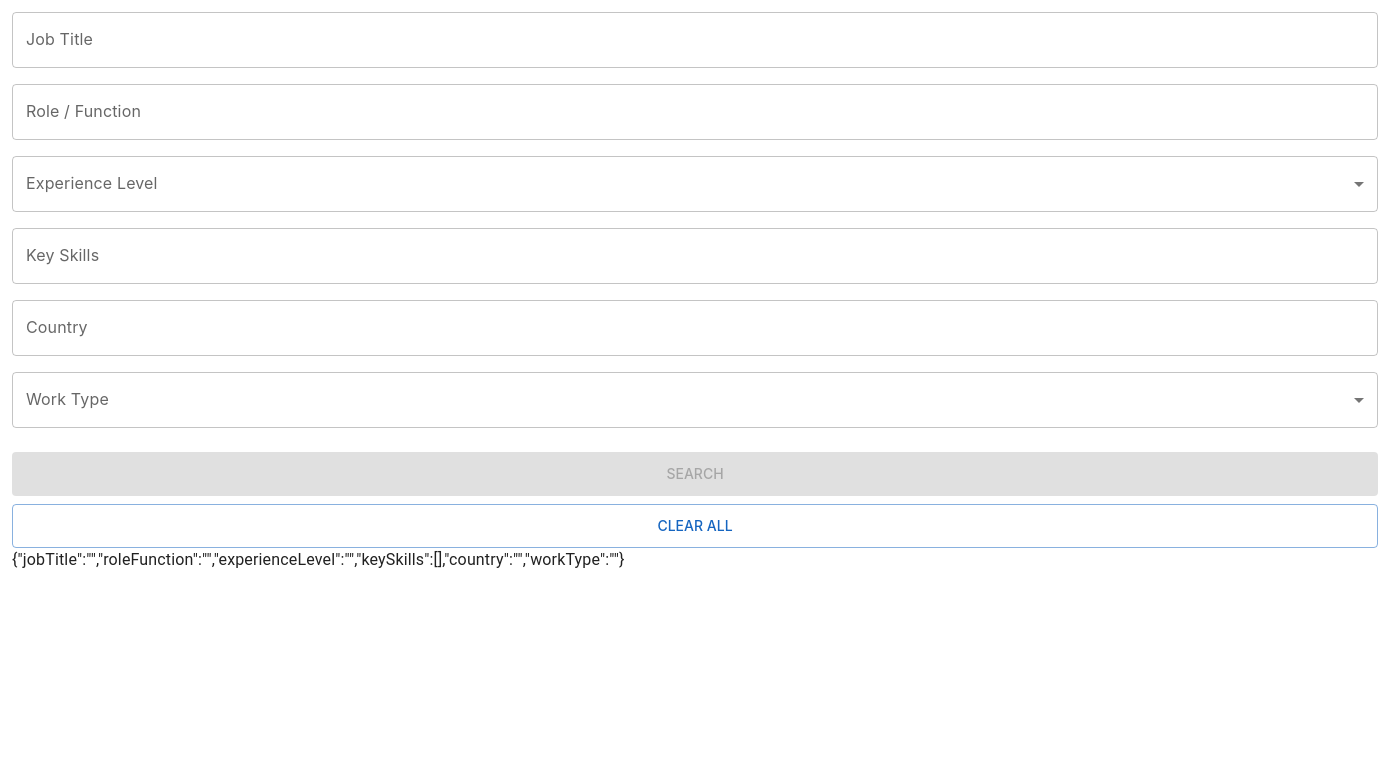
Test: SearchFilters › updates filter state when fields change
Type "Software Engineer" into the dropdown labelled "Job Title" at (695, 40), box [21,21,1369,59]
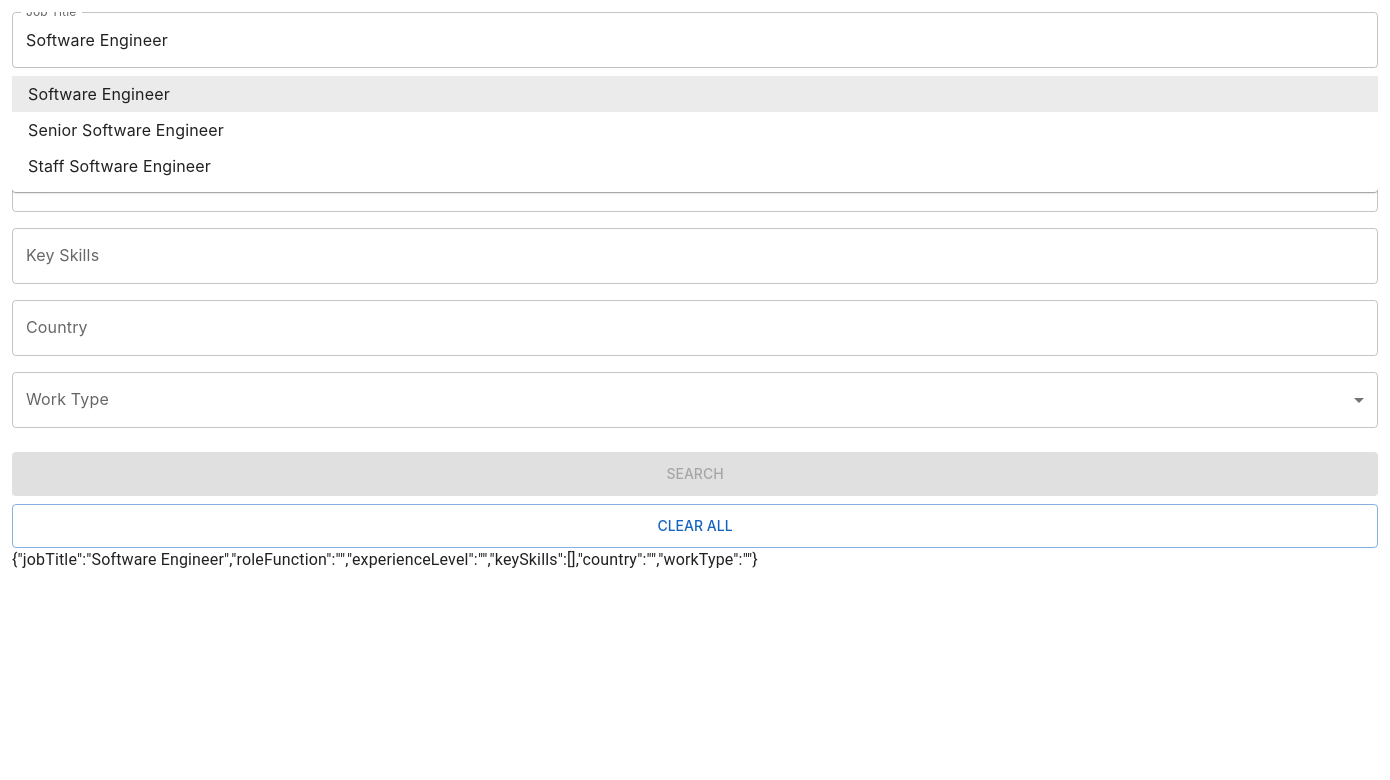
expect the text with test id "filter-state" shows "Software Engineer": met, box [12,550,758,569]
